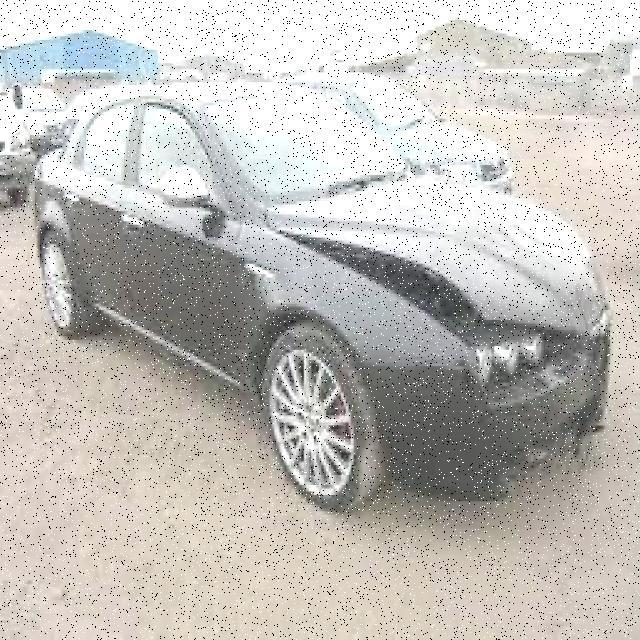car damage: (280, 232, 618, 499)
